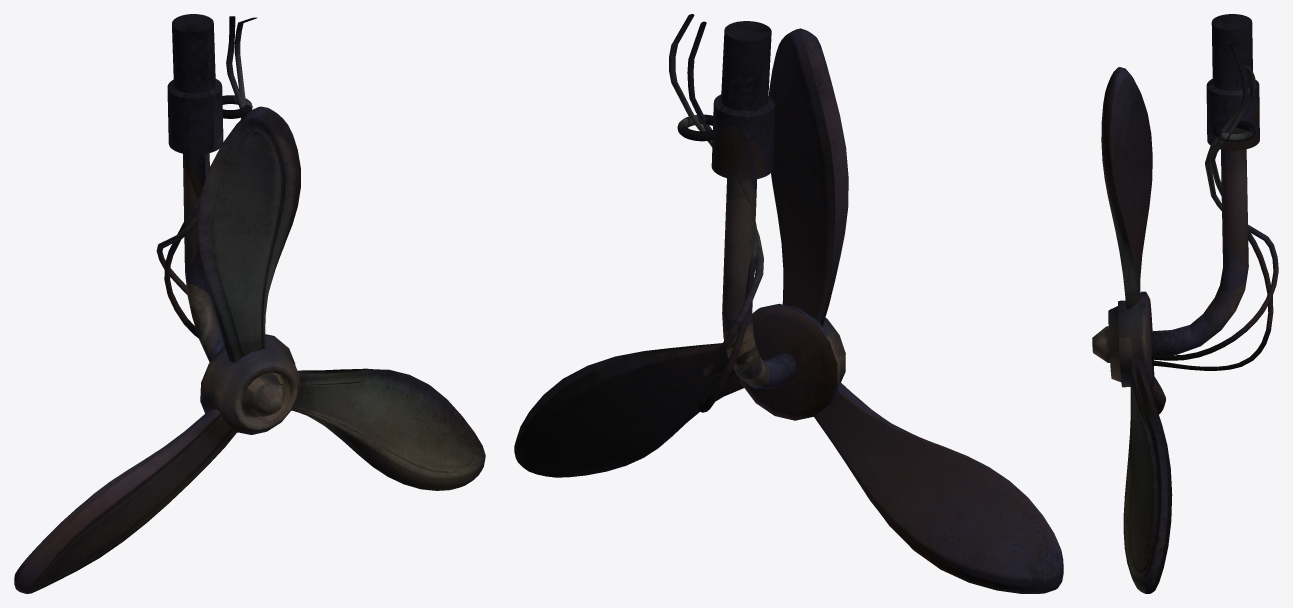
The model's file is PERVANE_2.fbx.
3 views of the same model, side by side, from view 1: azimuth 30°, elevation 25°; view 2: azimuth 150°, elevation 25°; view 3: azimuth 270°, elevation 25° (orthographic). The views are drawn at different scales.
Visible parts, largest first — view 1: PERVANE, PERVANE BORU; view 2: PERVANE, PERVANE BORU; view 3: PERVANE, PERVANE BORU.
Part boxes in pixels (x1,y1,x2,y2): PERVANE: (14, 106, 485, 593); PERVANE BORU: (156, 14, 283, 388); PERVANE: (514, 28, 1063, 593); PERVANE BORU: (669, 14, 796, 412); PERVANE: (1092, 67, 1172, 593); PERVANE BORU: (1151, 14, 1278, 370).
Size of the model in its own units: 301 by 292 by 106.
